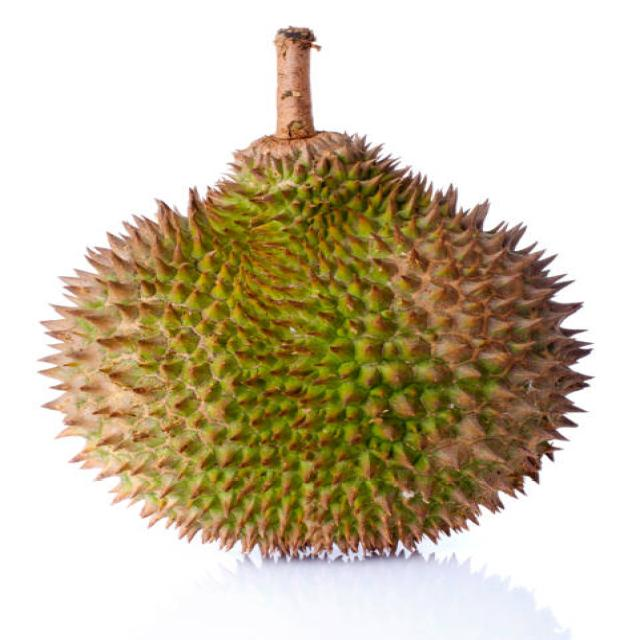mature: (45, 132, 588, 554)
